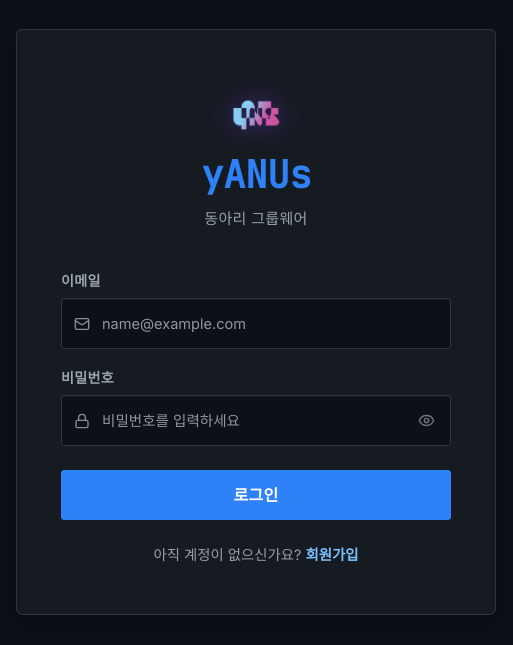
Login 페이지 › 비밀번호가 비어있으면 유효성 에러를 표시한다
Type "user@test.com" into the field labelled "이메일" at (256, 324), box [61,298,451,349]
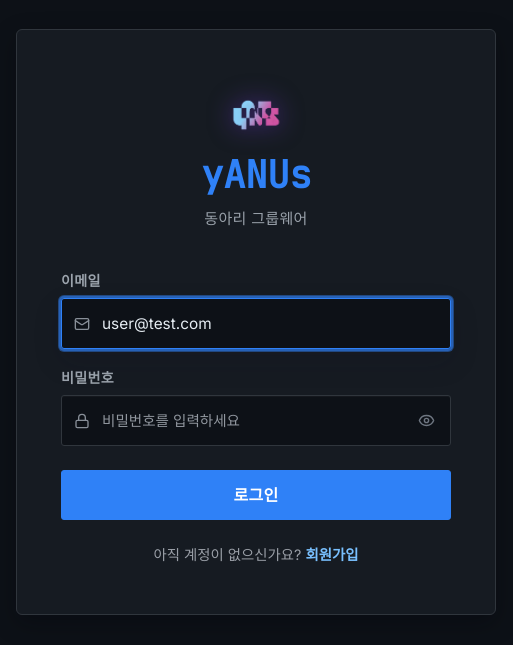
Click the button "로그인" at (256, 495), box [61,470,451,520]
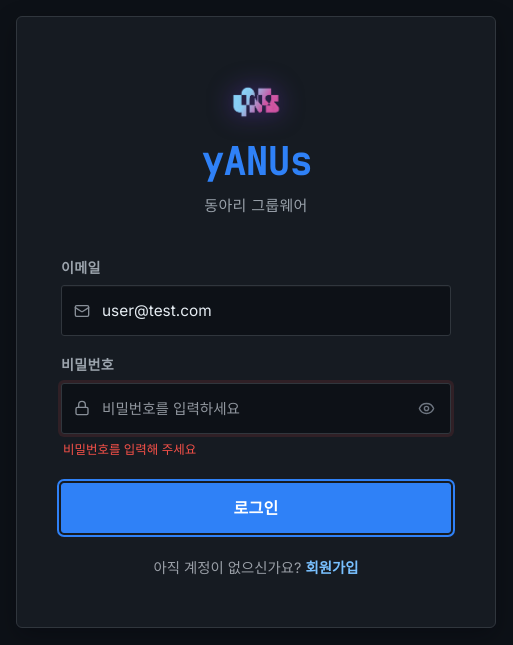
Check: the text "비밀번호를 입력해 주세요" is shown, box [63,442,196,456]
